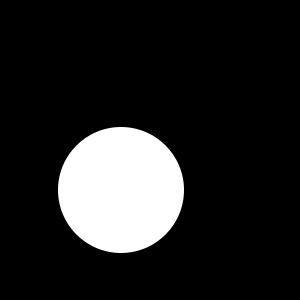rectangle: (58, 127, 184, 253)
